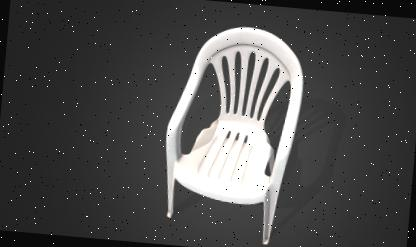chair: (152, 15, 310, 244)
